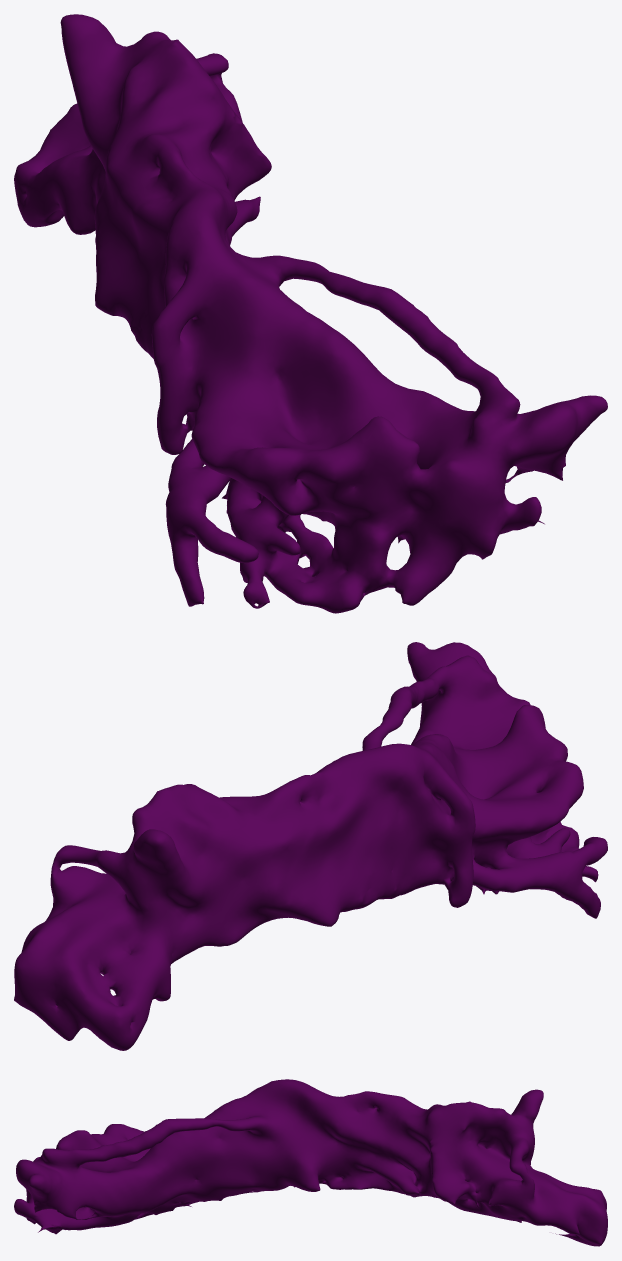
The model's file is Pyramidal_tract.obj.
3 views of the same model, one above another, from view 1: azimuth 30°, elevation 25°; view 2: azimuth 150°, elevation 25°; view 3: azimuth 270°, elevation 25° (orthographic). The views are drawn at different scales.
Visible parts, largest first — view 1: grp1; view 2: grp1; view 3: grp1.
Boxes of the visible parts, x1,y1,x2,y2 form: grp1: (14, 14, 607, 613); grp1: (14, 642, 607, 1050); grp1: (14, 1079, 607, 1246).
Bounding box in the file's own units: 47.03 × 37.53 × 113.
